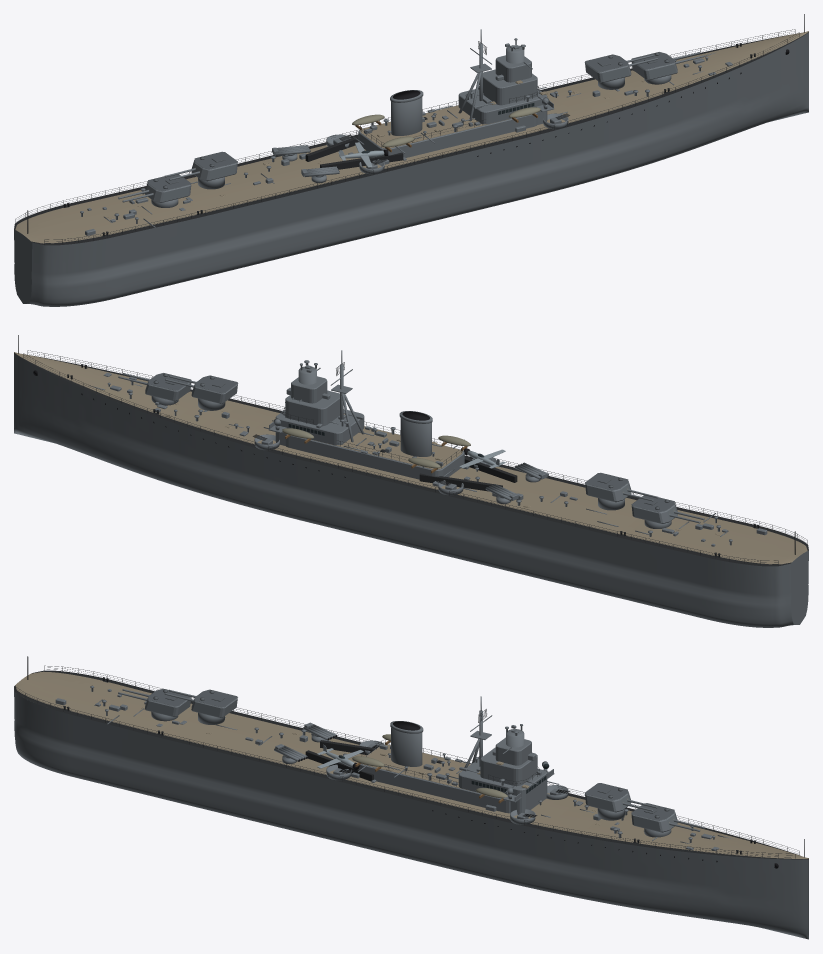
Rendered from leander.glb.
3 renders of one model, top to bottom at view 1: azimuth 30°, elevation 25°; view 2: azimuth 150°, elevation 25°; view 3: azimuth 330°, elevation 25°, orthographic.
Visible parts, largest first — view 1: leander, T_2_malla, T_3_malla, T_1_malla, T_0_malla; view 2: leander, T_2_malla, T_3_malla, T_1_malla, T_0_malla; view 3: leander, T_1_malla, T_0_malla, T_2_malla, T_3_malla.
Part boxes in pixels (x1,y1,x2,y2): leander: (14,14,808,306); T_2_malla: (191,151,237,181); T_3_malla: (145,174,191,202); T_1_malla: (584,54,631,82); T_0_malla: (631,52,677,80); leander: (14,335,808,627); T_2_malla: (585,472,631,502); T_3_malla: (631,495,677,523); T_1_malla: (191,375,238,403); T_0_malla: (145,373,191,401); leander: (14,656,808,939); T_1_malla: (585,783,630,812); T_0_malla: (631,803,677,832); T_2_malla: (191,689,237,717); T_3_malla: (145,688,191,716).
Bounding box in the file's own units: 169 × 33.5 × 18.23.
